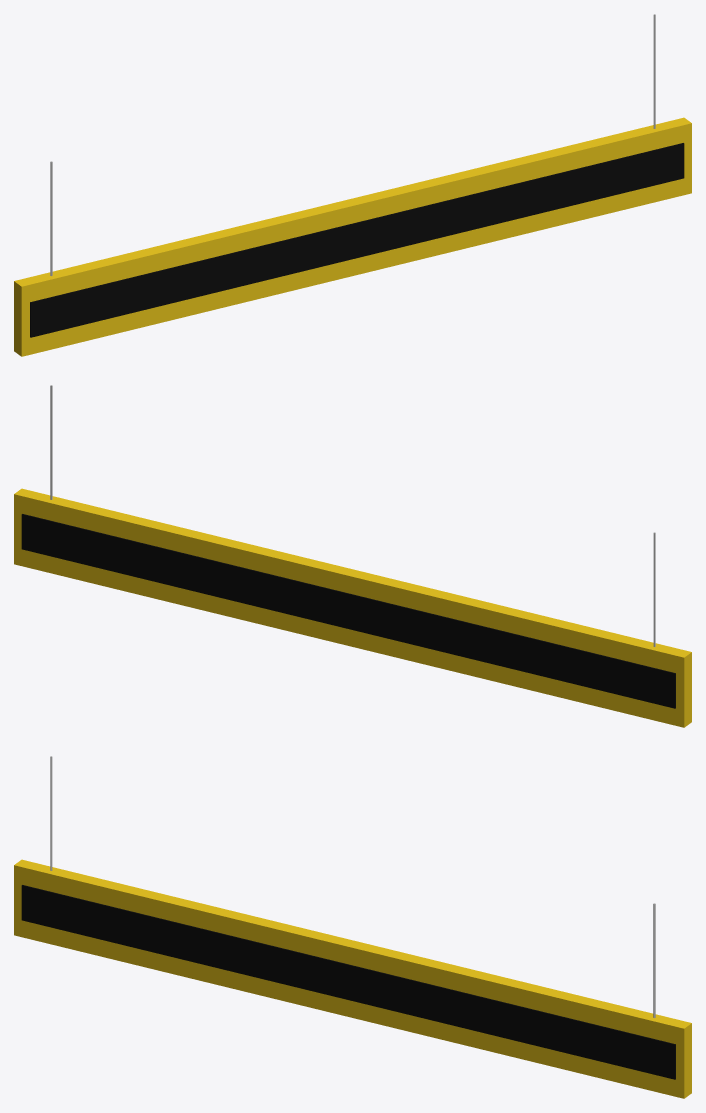
Rendered from airport.sign.hanging_long.glb.
3 renders of one model, top to bottom at view 1: azimuth 30°, elevation 25°; view 2: azimuth 150°, elevation 25°; view 3: azimuth 330°, elevation 25°, orthographic.
Parts seen in each view (by area): view 1: main__plastic_yellow, main__plastic_black, main__steel_stainless; view 2: main__plastic_yellow, main__plastic_black, main__steel_stainless; view 3: main__plastic_yellow, main__plastic_black, main__steel_stainless.
Part boxes in pixels (x1,y1,x2,y2): main__plastic_yellow: (14,117,691,356); main__plastic_black: (30,143,684,337); main__steel_stainless: (50,14,655,275); main__plastic_yellow: (14,488,691,727); main__plastic_black: (21,514,675,708); main__steel_stainless: (50,385,655,646); main__plastic_yellow: (14,859,691,1098); main__plastic_black: (21,885,675,1079); main__steel_stainless: (50,756,655,1017).
Bounding box in the file's own units: 4 × 1.05 × 0.094.
